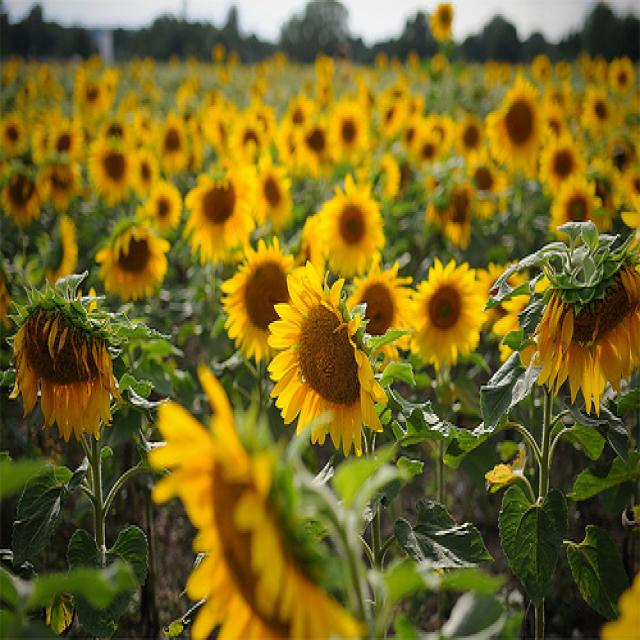sunflower: (147, 389, 383, 640), (523, 216, 640, 424), (273, 268, 377, 460), (6, 276, 126, 441), (416, 262, 486, 368), (186, 160, 252, 264), (96, 209, 168, 302), (347, 270, 413, 356), (322, 180, 382, 272), (492, 78, 542, 165), (87, 134, 134, 205), (330, 102, 370, 164)
